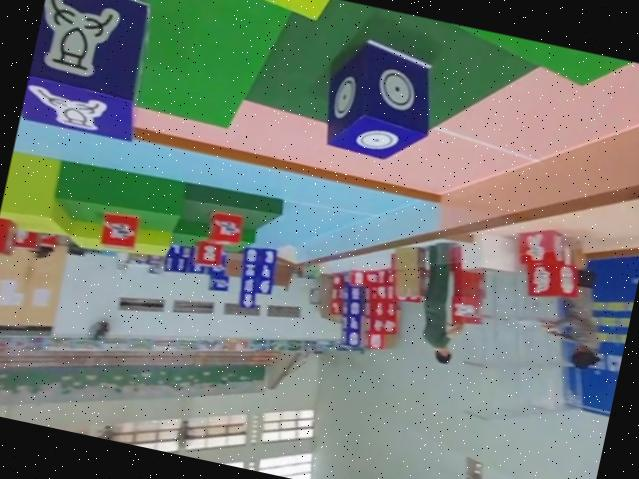R2 Real Blue: (18, 0, 163, 144), (315, 32, 444, 167)
